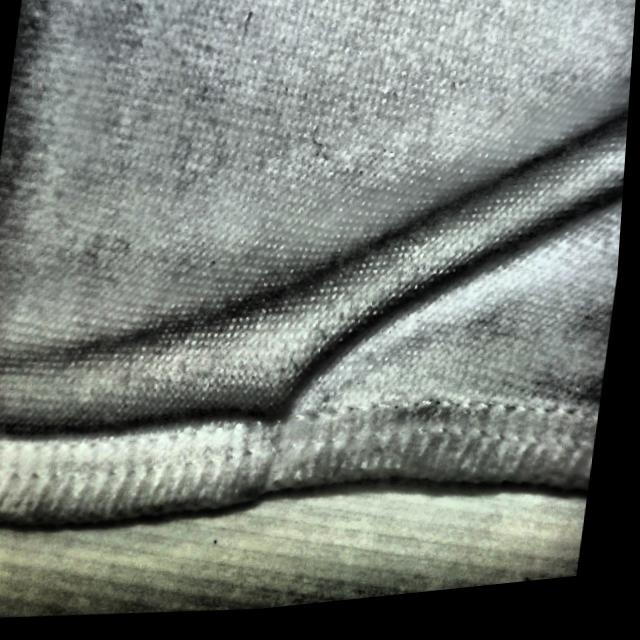seam: (138, 259, 391, 532)
